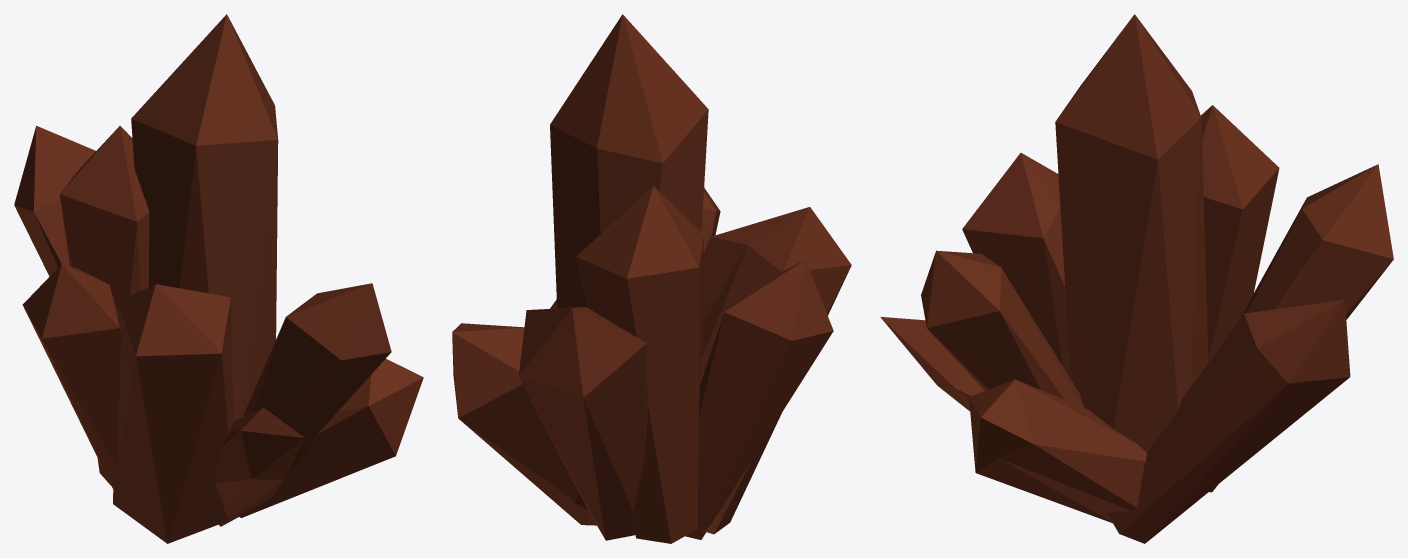
Rendered from Crystal.obj.
3 renders of one model, left to right at view 1: azimuth 30°, elevation 25°; view 2: azimuth 150°, elevation 25°; view 3: azimuth 270°, elevation 25°, orthographic. The views are drawn at different scales.
Parts seen in each view (by area): view 1: Icosphere.014_Icosphere.002, Icosphere.017_Icosphere.002, Icosphere.016_Icosphere.002, Icosphere.024_Icosphere.002, Icosphere.022_Icosphere.002, Icosphere.018_Icosphere.002, Icosphere.019_Icosphere.002, Icosphere.021_Icosphere.002; view 2: Icosphere.014_Icosphere.002, Icosphere.022_Icosphere.002, Icosphere.021_Icosphere.002, Icosphere.024_Icosphere.002, Icosphere.023_Icosphere.002, Icosphere.017_Icosphere.002, Icosphere.016_Icosphere.002; view 3: Icosphere.014_Icosphere.002, Icosphere.023_Icosphere.002, Icosphere.018_Icosphere.002, Icosphere.016_Icosphere.002, Icosphere.021_Icosphere.002, Icosphere.022_Icosphere.002, Icosphere.017_Icosphere.002, Icosphere.019_Icosphere.002.
Boxes of the visible parts, left/top/right/bottom form: Icosphere.014_Icosphere.002: left=131, top=14, right=278, bottom=420; Icosphere.017_Icosphere.002: left=113, top=284, right=235, bottom=543; Icosphere.016_Icosphere.002: left=243, top=283, right=391, bottom=442; Icosphere.024_Icosphere.002: left=22, top=264, right=120, bottom=488; Icosphere.022_Icosphere.002: left=59, top=126, right=149, bottom=485; Icosphere.018_Icosphere.002: left=239, top=359, right=423, bottom=517; Icosphere.019_Icosphere.002: left=215, top=407, right=312, bottom=526; Icosphere.021_Icosphere.002: left=14, top=126, right=95, bottom=276; Icosphere.014_Icosphere.002: left=550, top=14, right=708, bottom=509; Icosphere.022_Icosphere.002: left=576, top=186, right=703, bottom=543; Icosphere.021_Icosphere.002: left=518, top=307, right=648, bottom=540; Icosphere.024_Icosphere.002: left=685, top=260, right=833, bottom=539; Icosphere.023_Icosphere.002: left=452, top=323, right=596, bottom=525; Icosphere.017_Icosphere.002: left=700, top=207, right=851, bottom=534; Icosphere.016_Icosphere.002: left=701, top=188, right=720, bottom=252; Icosphere.014_Icosphere.002: left=1055, top=14, right=1208, bottom=452; Icosphere.023_Icosphere.002: left=1107, top=299, right=1350, bottom=543; Icosphere.018_Icosphere.002: left=969, top=379, right=1146, bottom=523; Icosphere.016_Icosphere.002: left=921, top=250, right=1084, bottom=407; Icosphere.021_Icosphere.002: left=1209, top=164, right=1393, bottom=492; Icosphere.022_Icosphere.002: left=1201, top=105, right=1279, bottom=362; Icosphere.017_Icosphere.002: left=962, top=153, right=1070, bottom=378; Icosphere.019_Icosphere.002: left=880, top=317, right=1107, bottom=518.
Size of the model in its own units: 1.3 by 1.95 by 1.77.
